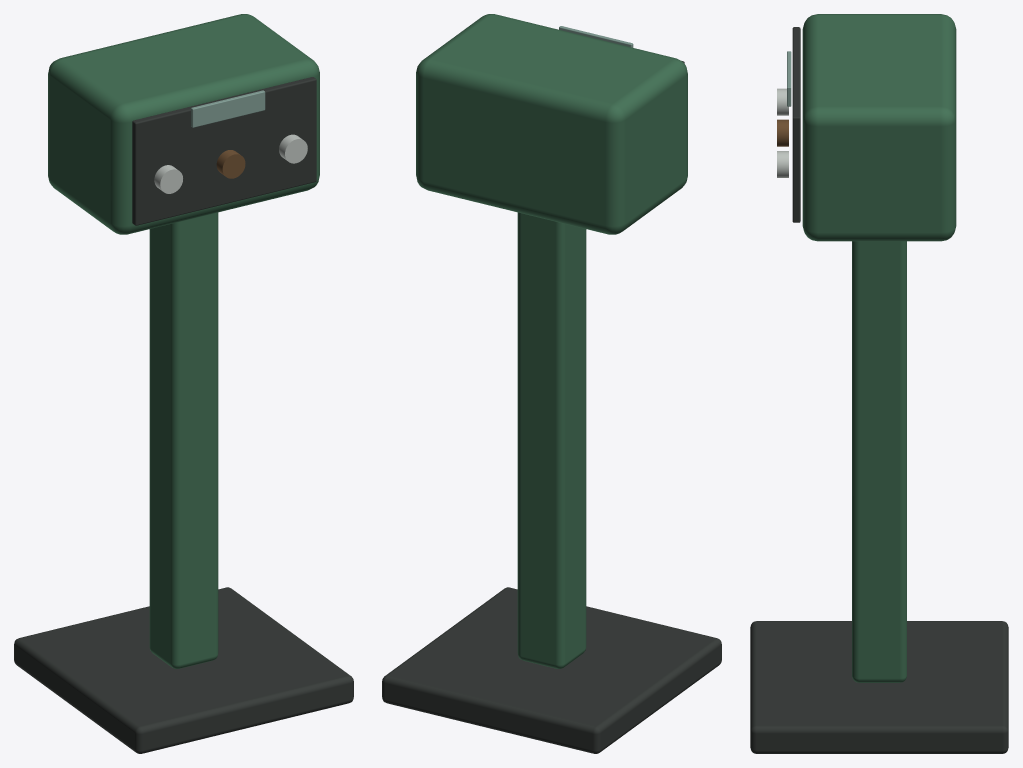
The model's file is sawmill-and-timber-yard-operator-control-pedestal-702144ea__31167.glb.
The picture shows the model from 3 angles, left to right: view 1: azimuth 30°, elevation 25°; view 2: azimuth 150°, elevation 25°; view 3: azimuth 270°, elevation 25°; orthographic projection. The views are drawn at different scales.
Parts seen in each view (by area): view 1: operator-control-pedestal; view 2: operator-control-pedestal; view 3: operator-control-pedestal.
Part boxes in pixels (x1=…): operator-control-pedestal: x1=14, y1=14, x2=353, y2=753; operator-control-pedestal: x1=382, y1=14, x2=721, y2=753; operator-control-pedestal: x1=750, y1=14, x2=1008, y2=753.
Size of the model in its own units: 0.4199 by 1.15 by 0.4199.
